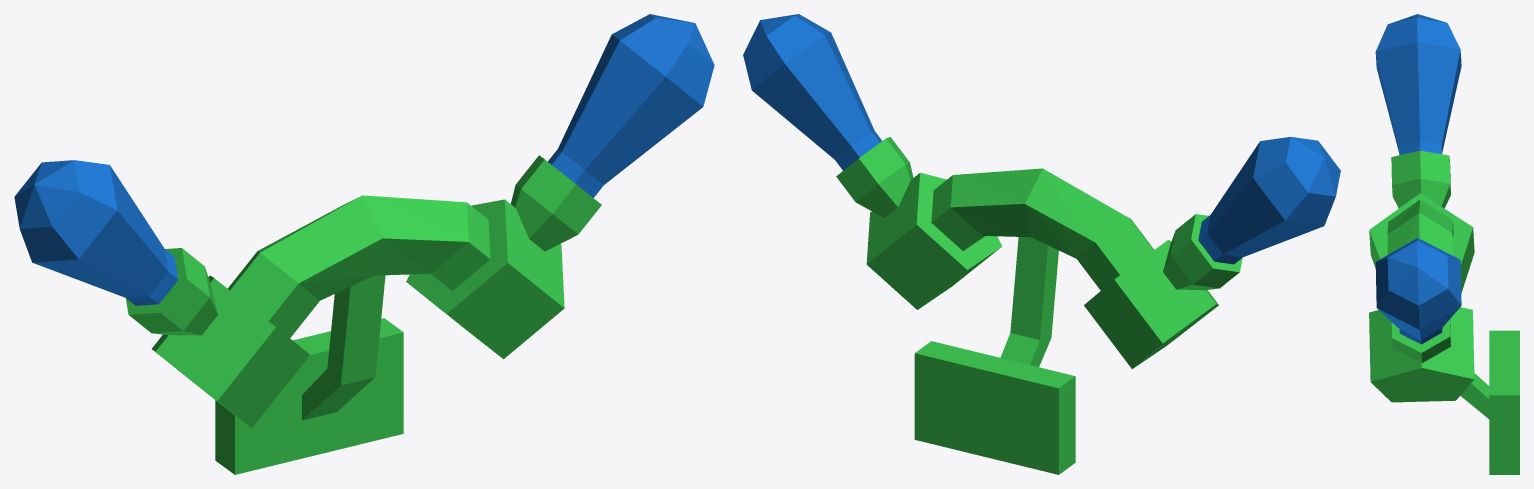
Rendered from SM_wall_lamp.fbx.
3 renders of one model, left to right at view 1: azimuth 30°, elevation 25°; view 2: azimuth 150°, elevation 25°; view 3: azimuth 270°, elevation 25°, orthographic. The views are drawn at different scales.
Parts seen in each view (by area): view 1: wall_lamp; view 2: wall_lamp; view 3: wall_lamp.
Part boxes in pixels (left/top/right/bottom): wall_lamp: left=14, top=14, right=714, bottom=474; wall_lamp: left=743, top=14, right=1340, bottom=474; wall_lamp: left=1369, top=14, right=1519, bottom=474.
Bounding box in the file's own units: 48.63 × 26.88 × 11.73.
